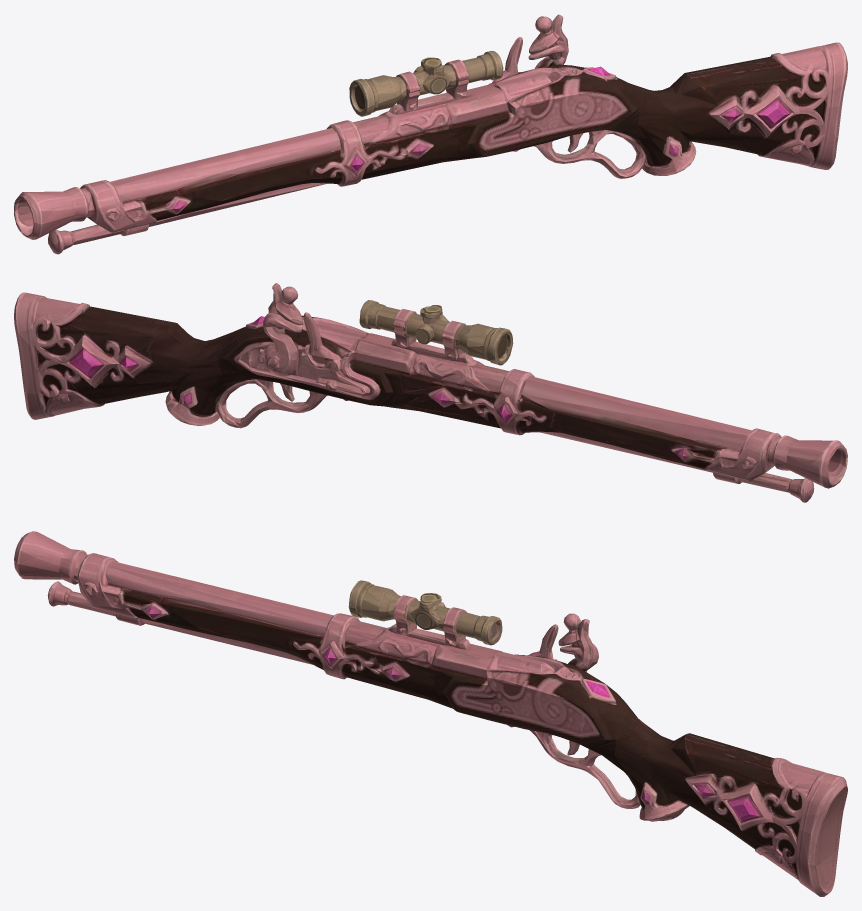
The model's file is rose_rifle_gun.glb.
The picture shows the model from 3 angles, top to bottom: view 1: azimuth 30°, elevation 25°; view 2: azimuth 150°, elevation 25°; view 3: azimuth 330°, elevation 25°; orthographic projection.
Visible parts, largest first — view 1: Rifle; view 2: Rifle; view 3: Rifle.
Part boxes in pixels (<box>): Rifle: <box>14,14,847,254</box>; Rifle: <box>14,283,847,502</box>; Rifle: <box>14,531,847,896</box>.
Size of the model in its own units: 1.9 by 0.4592 by 0.1608.
1 material, 1 textured.
